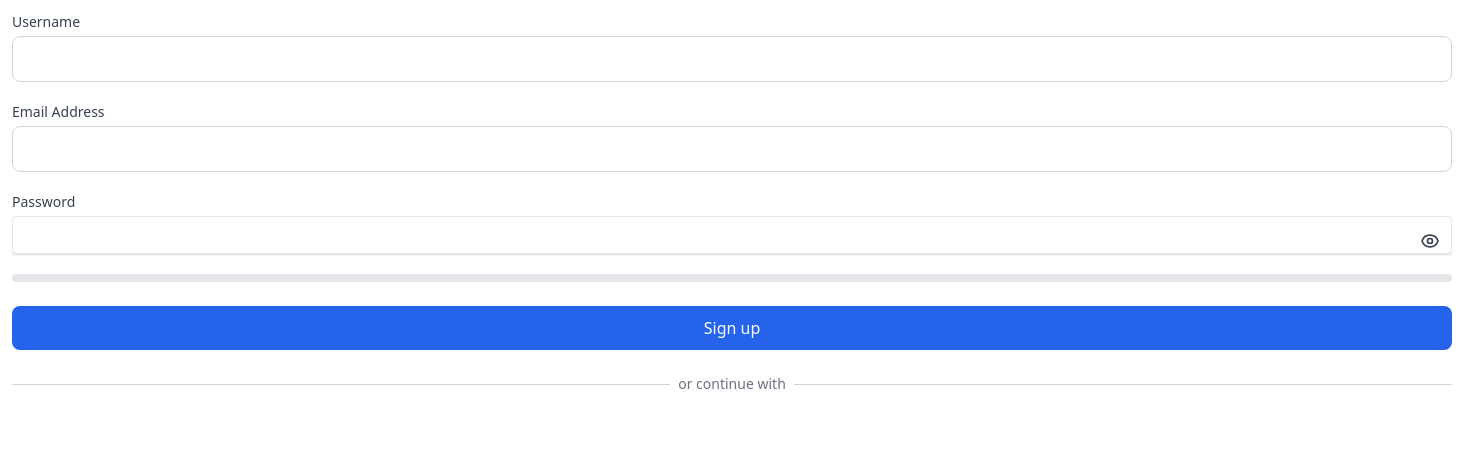
Test case: Register Component › Form Submission › handles network errors during registration
The width and height of the screenshot is (1464, 450).
Type "testuser" into the field named "username" below "Username" at {"x": 732, "y": 59}, box [12,36,1452,82]
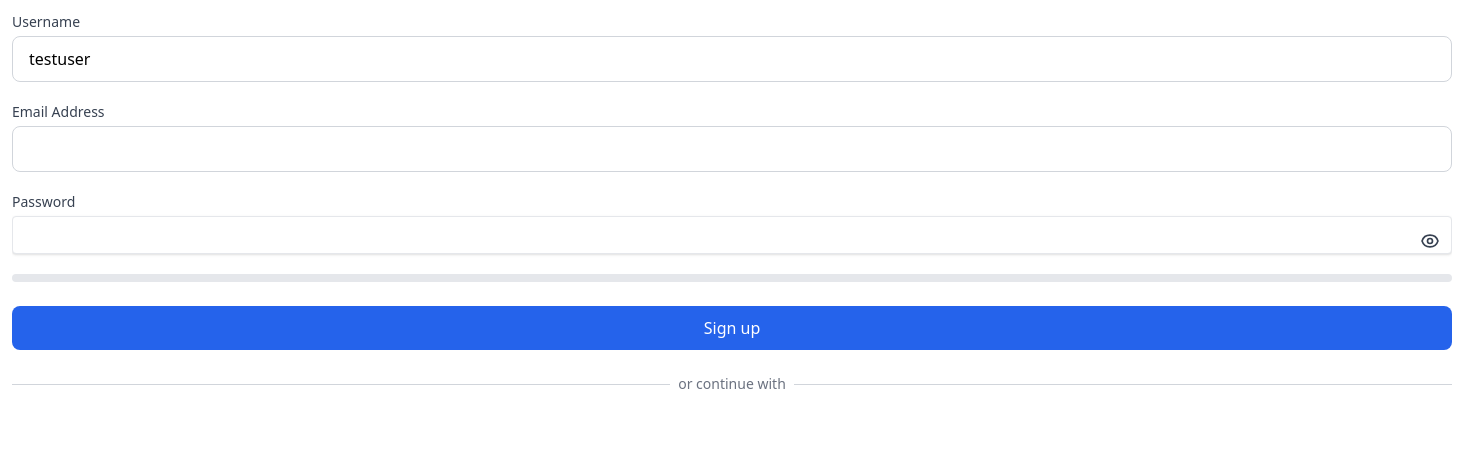
Type "test@example.com" into the field named "email" below "Email Address" at {"x": 732, "y": 149}, box [12,126,1452,172]
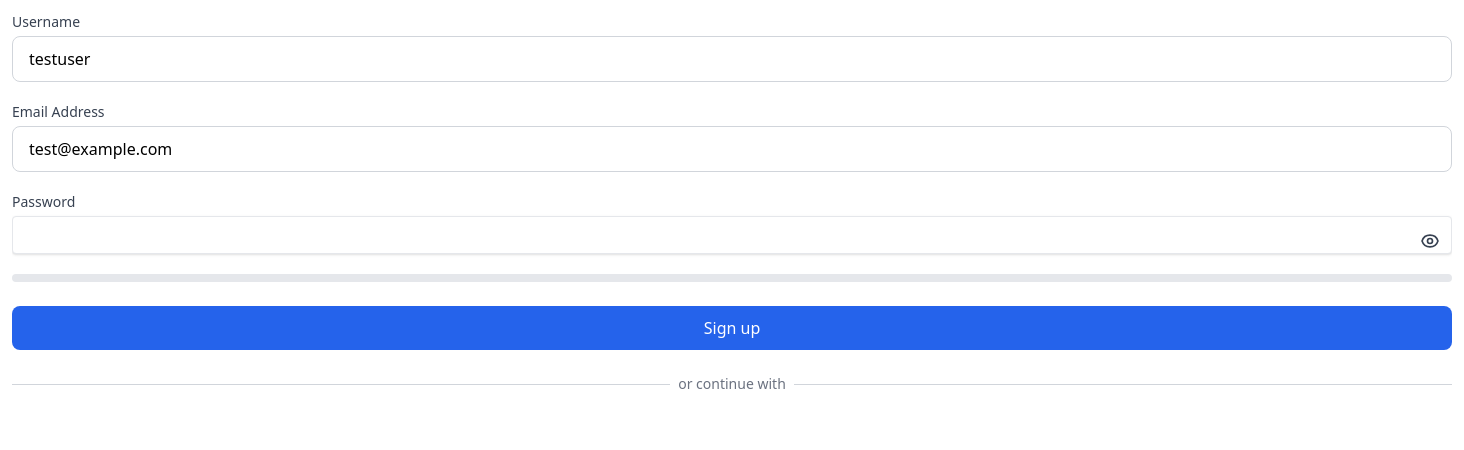
Type "Password123!" into the password field named "password" at {"x": 732, "y": 235}, box [12,216,1452,254]
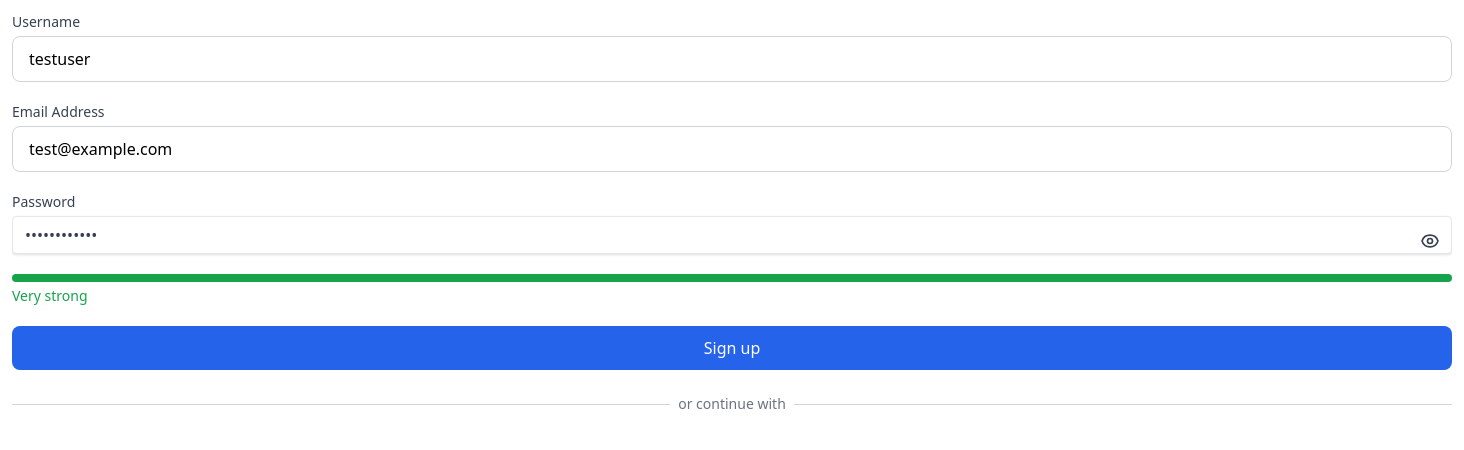
// Submit form
Click the button "Sign up" at {"x": 732, "y": 348}, box [12,326,1452,370]
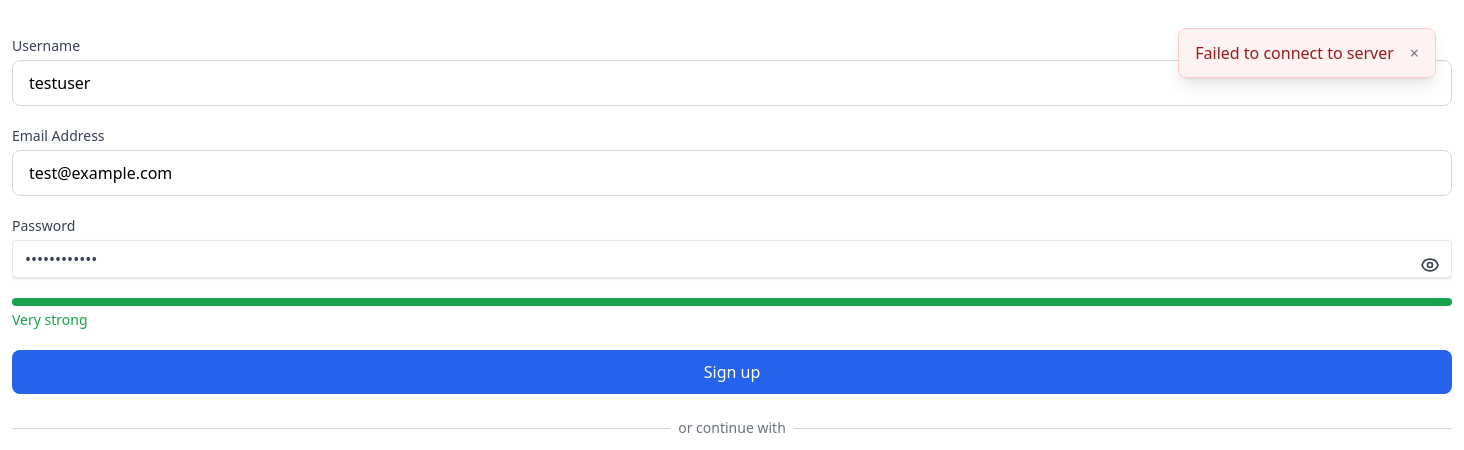
Now the text "Failed to connect to server" is shown, box [1195,41,1394,65]
